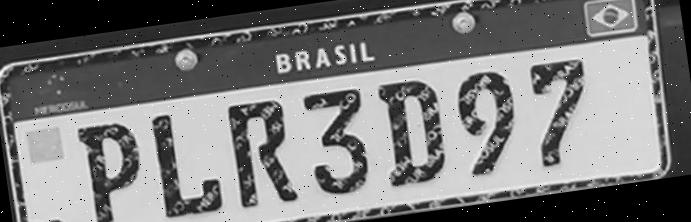placa_mercosul: (0, 0, 671, 222)
